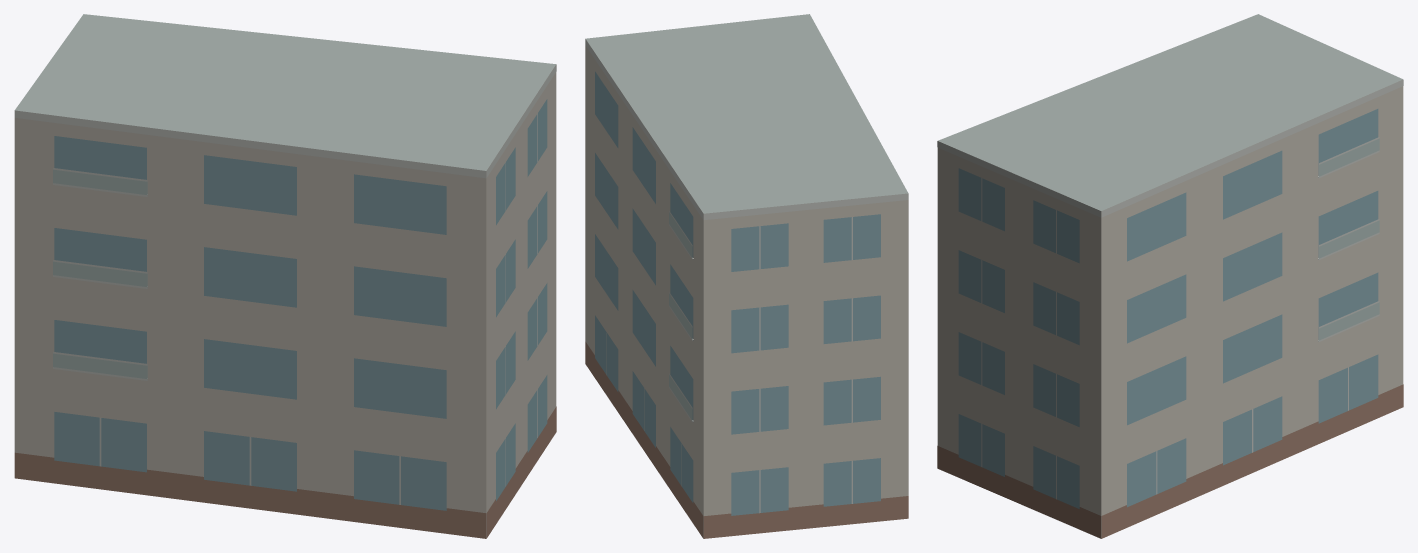
File: survey-upis-32888389.glb
3 views of the same model, side by side, from view 1: azimuth 30°, elevation 25°; view 2: azimuth 150°, elevation 25°; view 3: azimuth 270°, elevation 25° (orthographic). The views are drawn at different scales.
Parts seen in each view (by area): view 1: survey-upis-32888389.tmp; view 2: survey-upis-32888389.tmp; view 3: survey-upis-32888389.tmp.
Boxes of the visible parts, <box> form: survey-upis-32888389.tmp: <box>14,14,556,538</box>; survey-upis-32888389.tmp: <box>585,14,908,538</box>; survey-upis-32888389.tmp: <box>937,14,1403,538</box>.
Bounding box in the file's own units: 15.75 × 12.2 × 15.73.
